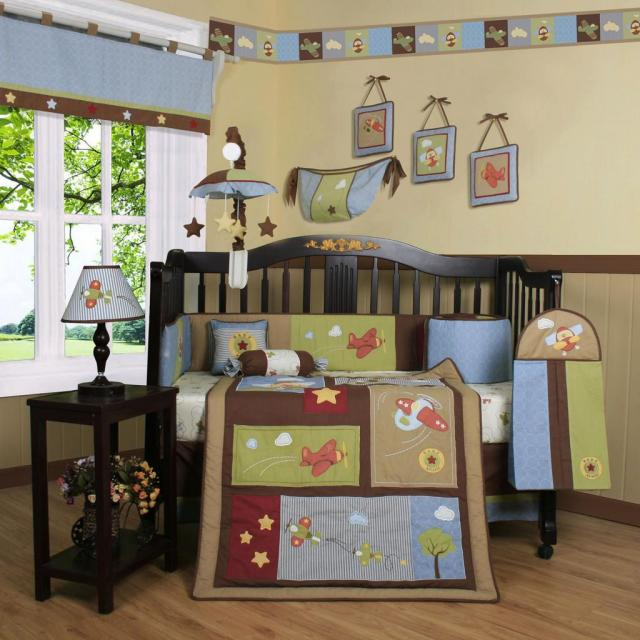table: (27, 377, 178, 615)
